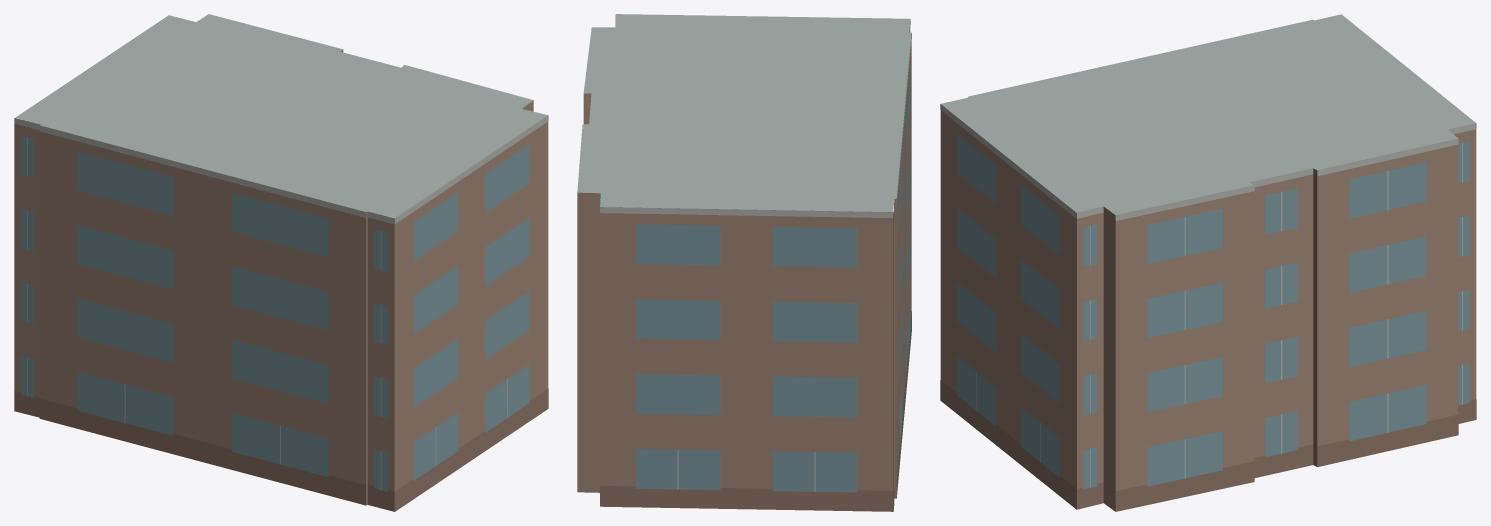
The model's file is survey-upis-32781142.glb.
3 views of the same model, side by side, from view 1: azimuth 30°, elevation 25°; view 2: azimuth 150°, elevation 25°; view 3: azimuth 270°, elevation 25° (orthographic). The views are drawn at different scales.
Visible parts, largest first — view 1: survey-upis-32781142.tmp; view 2: survey-upis-32781142.tmp; view 3: survey-upis-32781142.tmp.
Boxes of the visible parts, x1,y1,x2,y2 form: survey-upis-32781142.tmp: (14,14,548,511); survey-upis-32781142.tmp: (577,14,911,511); survey-upis-32781142.tmp: (940,14,1476,511).
Size of the model in its own units: 17.6 by 12.1 by 19.81.
